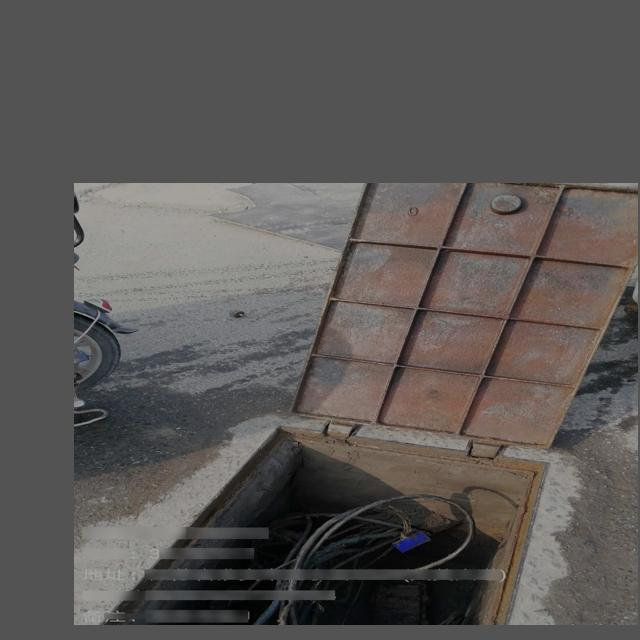uncovered: (81, 185, 638, 618)
